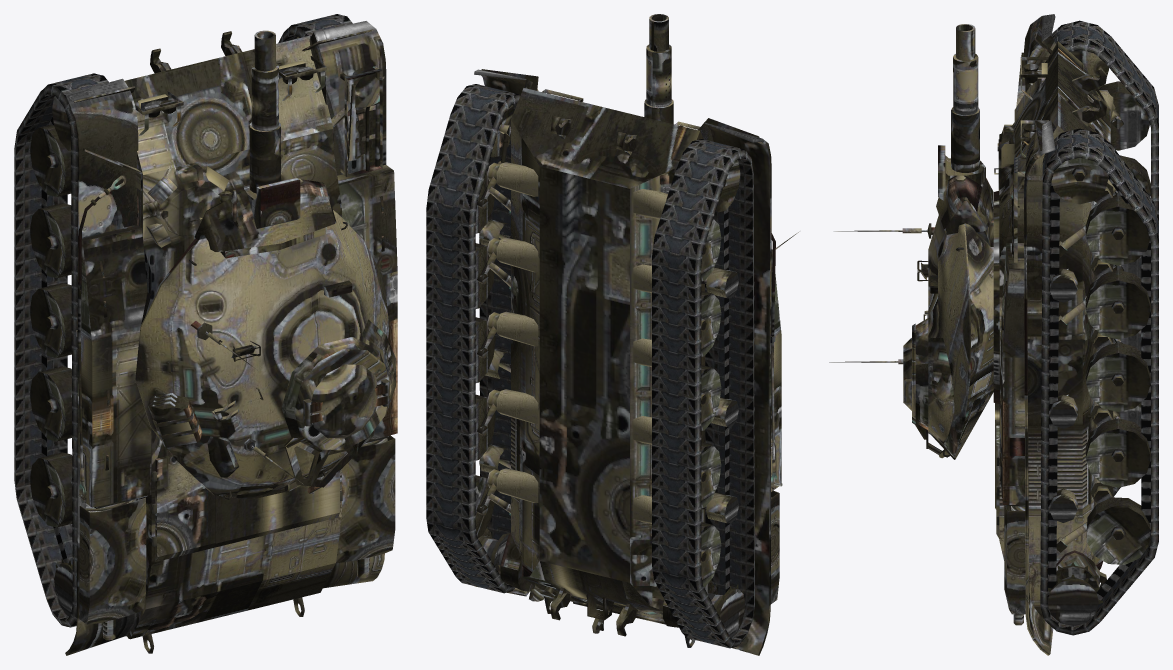
3 renders of one model, left to right at view 1: azimuth 30°, elevation 25°; view 2: azimuth 150°, elevation 25°; view 3: azimuth 270°, elevation 25°, orthographic. The views are drawn at different scales.
Visible parts, largest first — view 1: hull, turret_02, chassis_track_L, gun_05, chassis_wheel_L_09, chassis_wheel_L_04, chassis_wheel_L_07, chassis_wheel_L_05, chassis_wheel_L_02, chassis_track_R, chassis_wheel_L_10, chassis_wheel_L_01; view 2: hull, chassis_track_L, chassis_track_R, gun_05, chassis_wheel_L_10, chassis_wheel_L_04, chassis_wheel_L_07, chassis_wheel_L_05, chassis_wheel_L_09, chassis_wheel_R_05, chassis_wheel_R_07, chassis_wheel_L_03 (+8 smaller); view 3: hull, chassis_track_R, turret_02, gun_05, chassis_track_L, chassis_wheel_R_05, chassis_wheel_R_07, chassis_wheel_R_04, chassis_wheel_R_09, chassis_wheel_R_02, chassis_wheel_R_10, chassis_wheel_R_01 (+5 smaller).
Boxes of the visible parts, box(x1,y1,x2,y2) form: hull: box(65, 21, 397, 655); turret_02: box(135, 210, 395, 499); chassis_track_L: box(14, 73, 108, 627); gun_05: box(194, 30, 336, 251); chassis_wheel_L_09: box(30, 452, 72, 527); chassis_wheel_L_04: box(30, 203, 71, 278); chassis_wheel_L_07: box(30, 366, 71, 441); chassis_wheel_L_05: box(30, 283, 71, 357); chassis_wheel_L_02: box(30, 124, 71, 196); chassis_track_R: box(278, 14, 352, 43); chassis_wheel_L_10: box(53, 559, 72, 616); chassis_wheel_L_01: box(52, 96, 70, 151); hull: box(474, 69, 782, 655); chassis_track_L: box(652, 139, 754, 648); chassis_track_R: box(426, 84, 519, 593); gun_05: box(644, 14, 673, 124); chassis_wheel_L_10: box(704, 579, 744, 638); chassis_wheel_L_04: box(701, 291, 721, 356); chassis_wheel_L_07: box(701, 442, 721, 508); chassis_wheel_L_05: box(701, 365, 721, 430); chassis_wheel_L_09: box(701, 522, 721, 587); chassis_wheel_R_05: box(475, 317, 495, 382); chassis_wheel_R_07: box(475, 394, 495, 460); chassis_wheel_L_03: box(706, 267, 738, 298); hull: box(993, 14, 1123, 655); chassis_track_R: box(1040, 128, 1158, 635); turret_02: box(829, 202, 993, 459); gun_05: box(936, 24, 993, 232); chassis_track_L: box(1051, 20, 1158, 496); chassis_wheel_R_05: box(1085, 342, 1150, 411); chassis_wheel_R_07: box(1085, 418, 1150, 487); chassis_wheel_R_04: box(1085, 270, 1150, 339); chassis_wheel_R_09: box(1086, 497, 1150, 564); chassis_wheel_R_02: box(1085, 196, 1149, 265); chassis_wheel_R_10: box(1047, 562, 1102, 625); chassis_wheel_R_01: box(1051, 157, 1108, 204).
Bounding box in the file's own units: 3.23 × 6.25 × 3.27.
2 materials, 2 textured.
